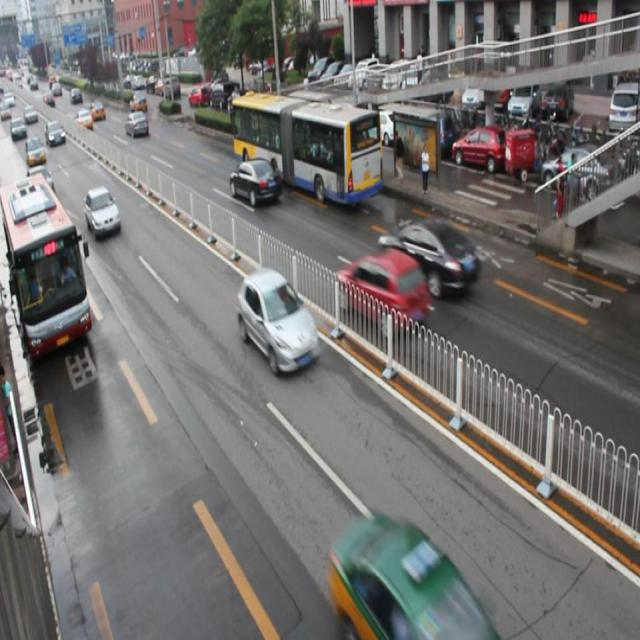car: (330, 515, 494, 640), (239, 268, 318, 374), (332, 252, 428, 336), (378, 218, 478, 296), (228, 161, 279, 203), (85, 188, 121, 236), (26, 166, 55, 198), (126, 113, 148, 135)
van: (230, 89, 382, 208), (1, 174, 92, 359)
